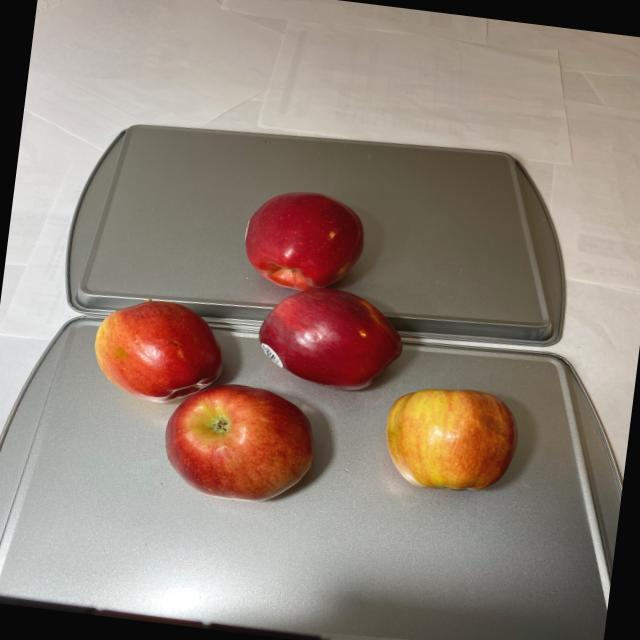apple: (82, 167, 550, 526)
